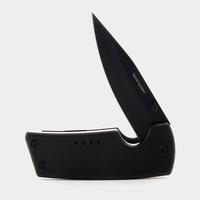knife: (23, 10, 186, 184)
